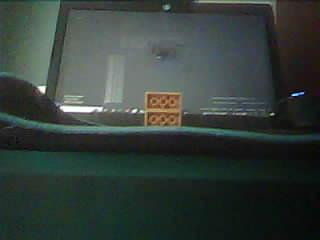lego: (144, 92, 182, 128)
